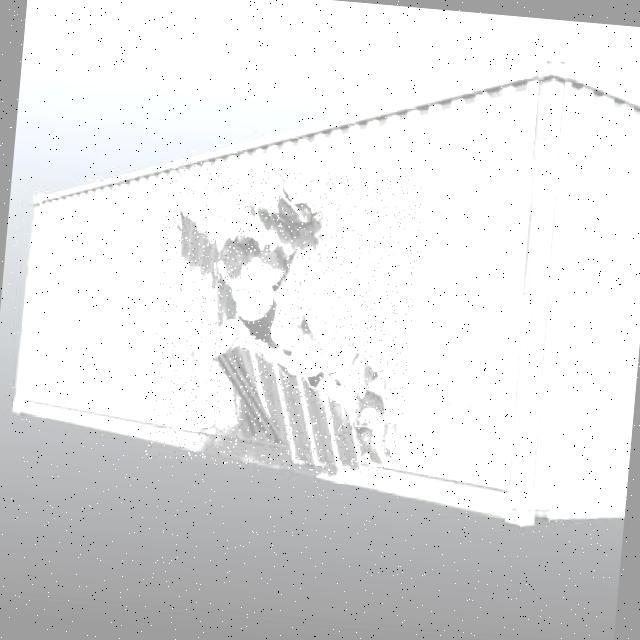Deframe: (145, 159, 424, 480)
